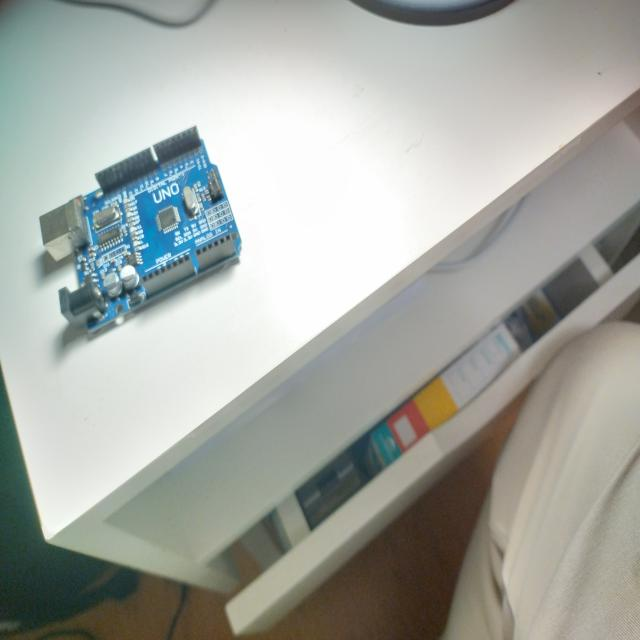arduino: (28, 121, 255, 342)
